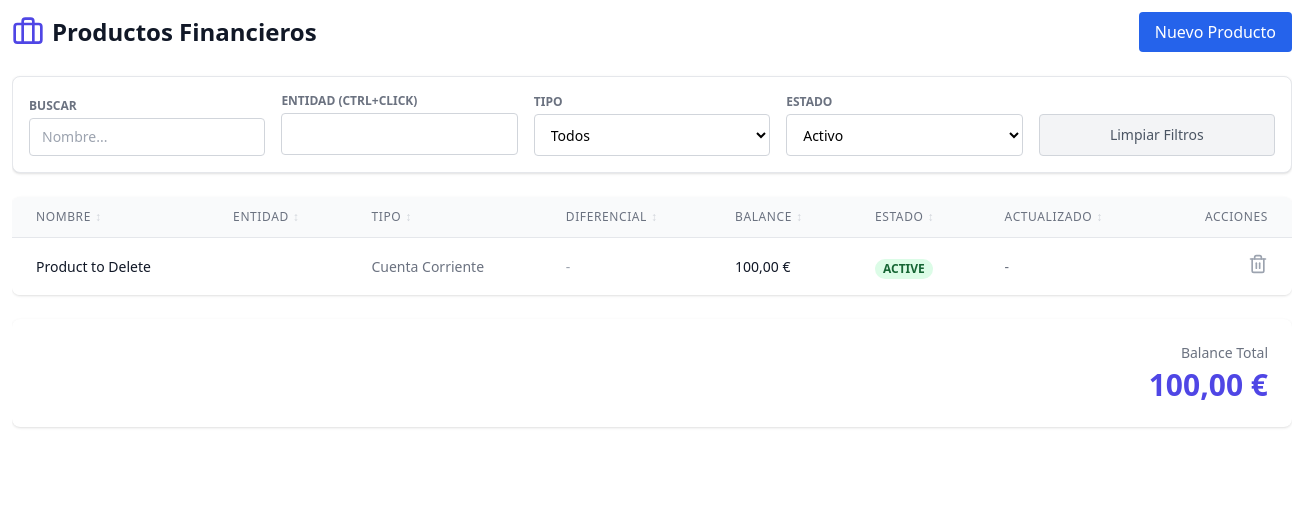
it: ProductsPage › displays error message on delete failure
expect the text "Product to Delete" is shown: met, box x1=12 y1=238 x2=209 y2=295
Click the button titled "Eliminar producto". click: click(1258, 264)
box: x1=1248 y1=254 x2=1268 y2=274
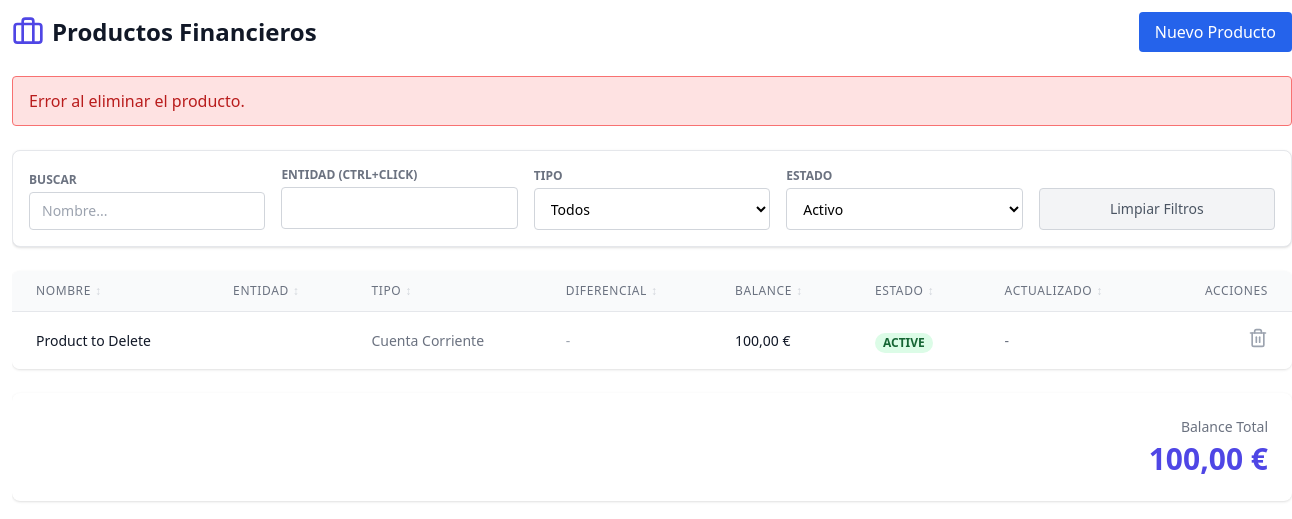
expect the text "Error al eliminar el producto." is shown: met, box x1=12 y1=76 x2=1291 y2=126
